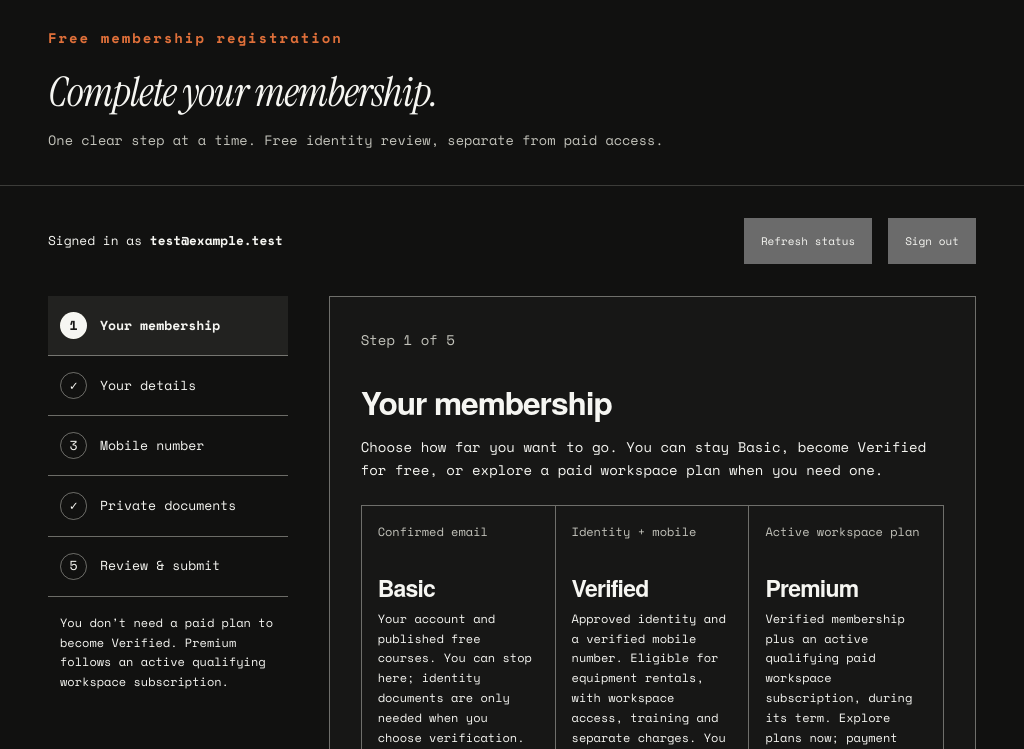
Test: keeps one step visible and permits identity review before mobile verification
This screenshot has width=1024, height=749.
Expected: the navigation bar named "Registration steps" is shown, x1=48 y1=296 x2=288 y2=597
Expected: the heading "Basic" is shown, x1=378 y1=571 x2=435 y2=604
Click the button "3 Mobile number".
click(168, 446)  # box x1=48 y1=416 x2=288 y2=476
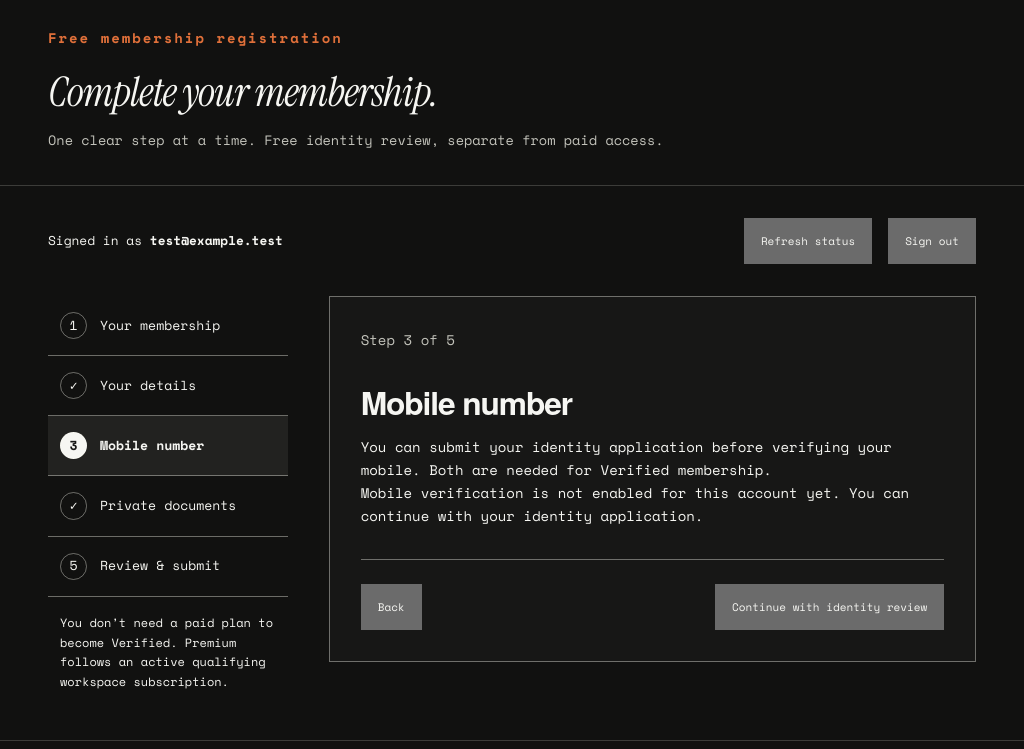
Result: the text "You can submit your identity application before verifying your mobile. Both are needed for Verified membership." is shown at x1=361 y1=436 x2=892 y2=480
Click the button "Continue with identity review".
click(830, 607)  # box x1=715 y1=584 x2=944 y2=630
(page scrolled)
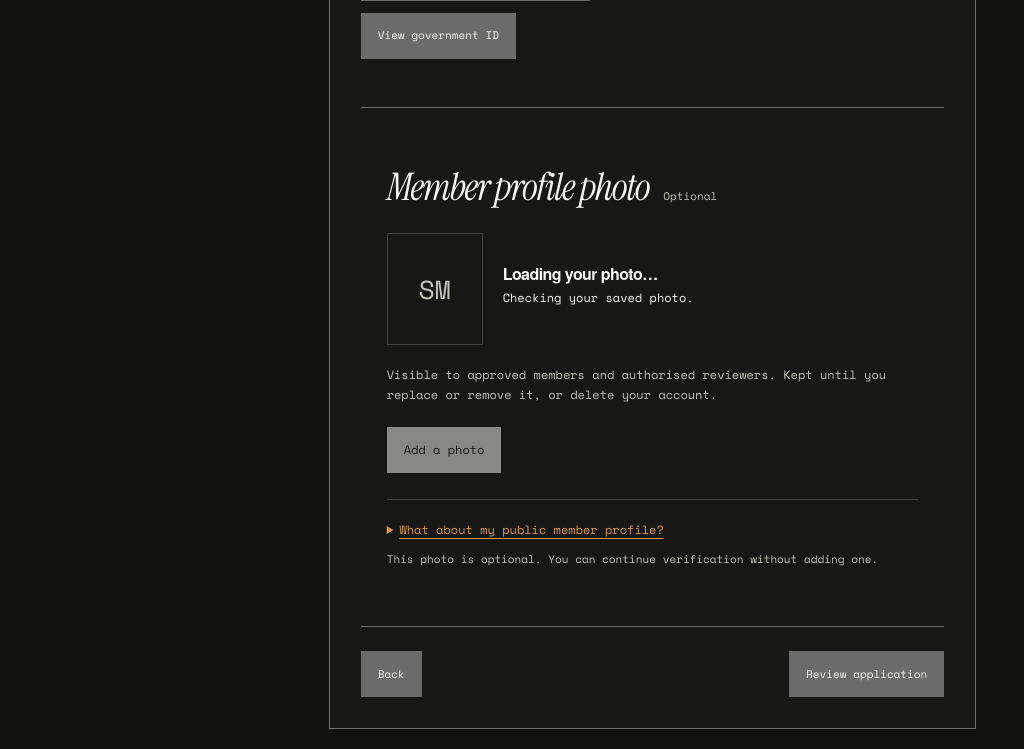
Expected: the text "Basic" is not shown
Click the button "Review application".
click(867, 674)  # box x1=789 y1=651 x2=944 y2=697
(page scrolled)
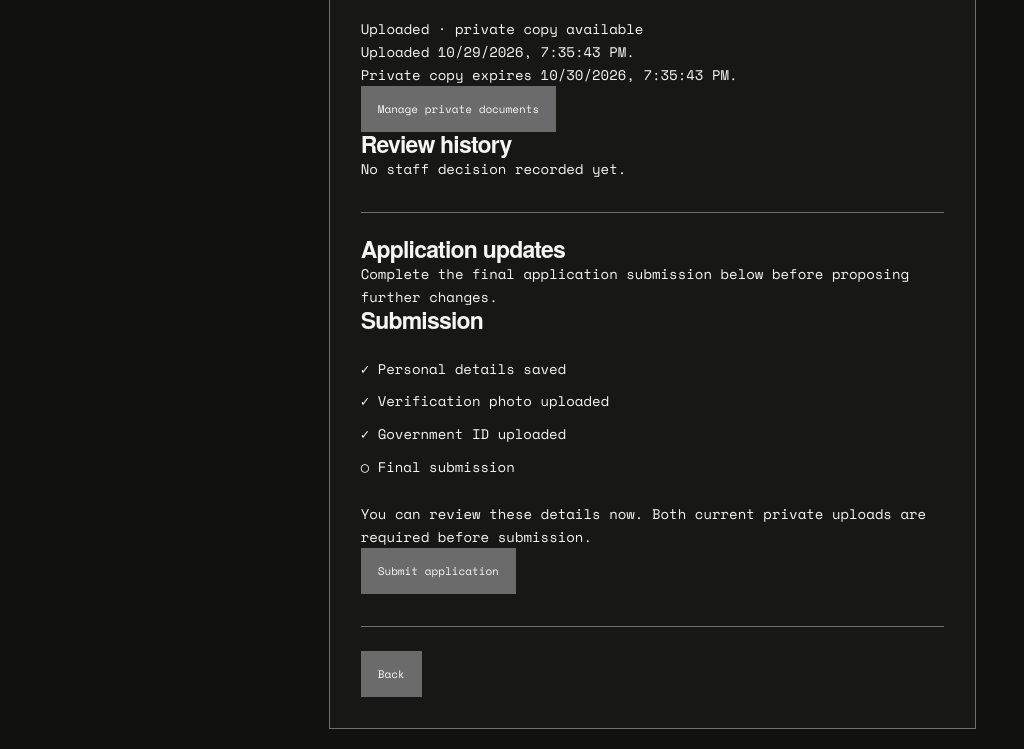
Result: the button "Submit application" is enabled at x1=361 y1=548 x2=516 y2=594
